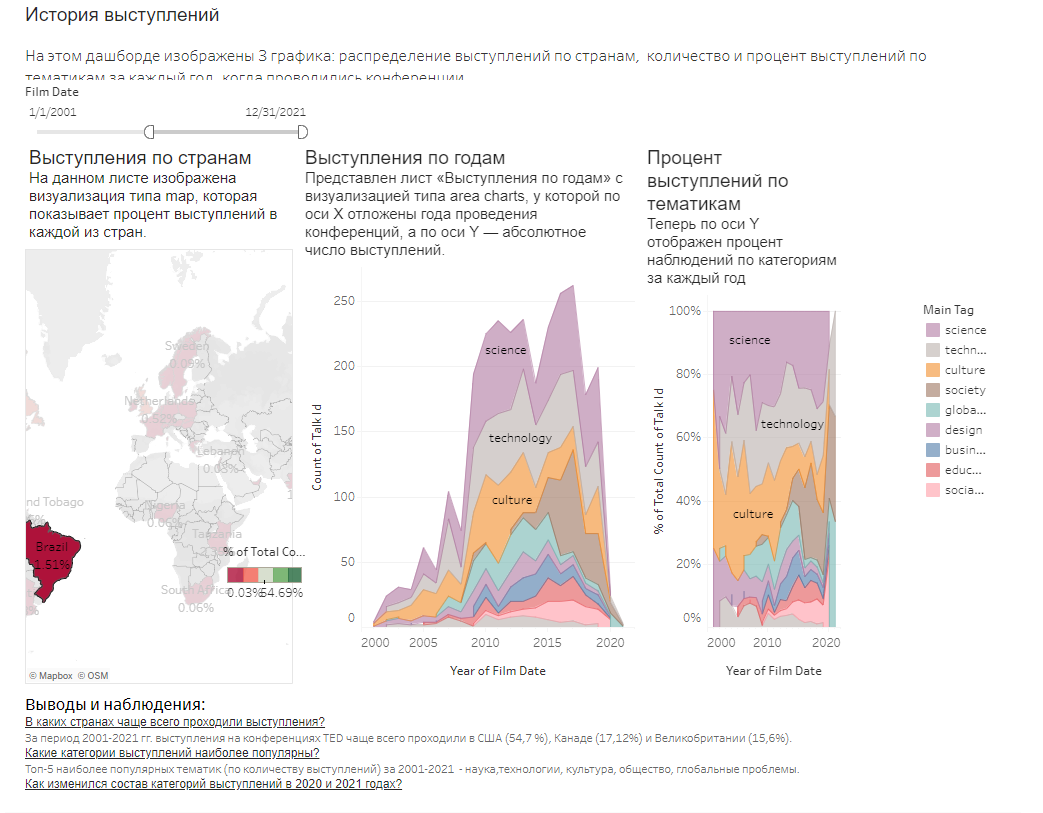

What the dashboard file says about the page in this screenshot:
{"tool":"tableau","page":{"name":"История выступлений","canvas":[1000,1000],"units":"permille","ordinal":2},"visuals":[{"type":"text","box":[5,8.9,990,104.9]},{"type":"filter","title":"Выступления по странам","param":"[federated.05iha2j19xyp1x1dimxo50kktvif].[none:film_date:qk]","box":[11.9,111.6,285,75.9]},{"type":"worksheet","title":"Выступления по странам","mark":"Automatic","box":[5,176.9,298.7,681.4]},{"type":"worksheet","title":"Выступления по годам","mark":"Area","rows":["talk_id"],"cols":["film_date"],"box":[303.6,176.9,368.9,681.4]},{"type":"worksheet","title":"Процент выступлений по тематикам","mark":"Area","cols":["film_date"],"box":[672.6,176.9,222.6,681.4]},{"type":"legend","title":"Выступления по годам","param":"[federated.05iha2j19xyp1x1dimxo50kktvif].[none:main_tag:nk]","box":[909.7,381.7,82.6,243.3]},{"type":"legend","title":"Выступления по странам","param":"[federated.05iha2j19xyp1x1dimxo50kktvif].[pcto:cnt:talk_id:qk]","box":[210.2,678.6,83.1,84.8]},{"type":"text","box":[5,858.3,990,132.8]}]}

Visuals, with their boxes on the dashboard's canvas, which has no fixed pixel size, in thousandths of its width and height (x1, y1, x2, y2). These are canvas units, not pixel positions in the 1043x813 screenshot, which may show the page scaled, cropped or inside an application window:
text: [5,9,995,114]
"Выступления по странам" filter: [12,112,297,188]
"Выступления по странам" worksheet: [5,177,304,858]
"Выступления по годам" worksheet (Area marks): [304,177,672,858]
"Процент выступлений по тематикам" worksheet (Area marks): [673,177,895,858]
"Выступления по годам" legend: [910,382,992,625]
"Выступления по странам" legend: [210,679,293,763]
text: [5,858,995,991]
